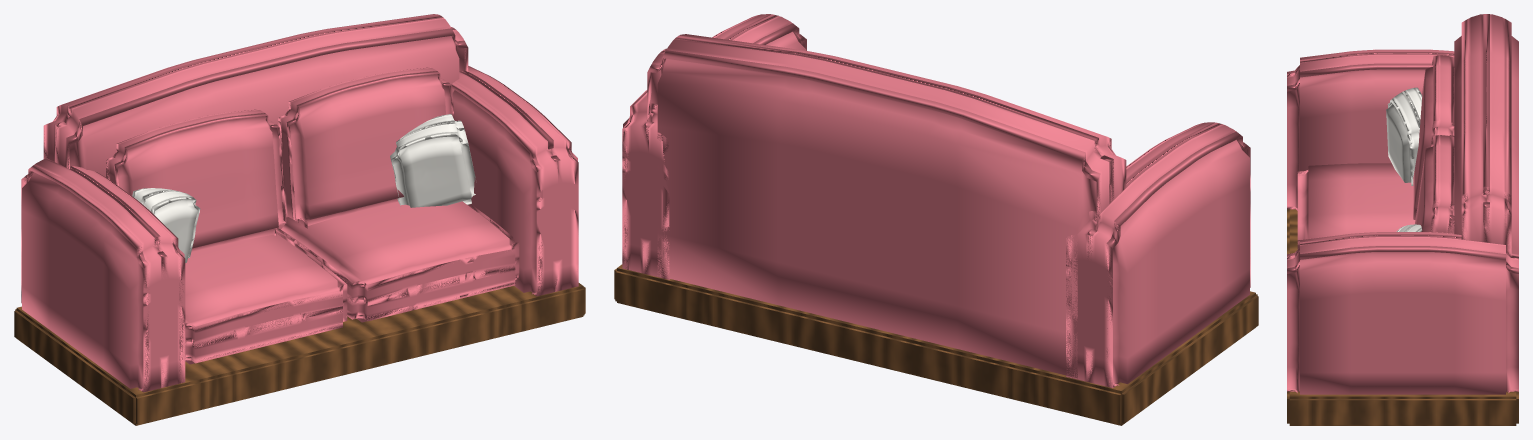
The model's file is furn_sofa.glb.
3 views of the same model, side by side, from view 1: azimuth 30°, elevation 25°; view 2: azimuth 150°, elevation 25°; view 3: azimuth 270°, elevation 25° (orthographic). The views are drawn at different scales.
Visible parts, largest first — view 1: furn_sofa; view 2: furn_sofa; view 3: furn_sofa.
Boxes of the visible parts, box(x1,y1,x2,y2) form: furn_sofa: box(14, 14, 585, 425); furn_sofa: box(614, 14, 1258, 425); furn_sofa: box(1287, 14, 1518, 425).
Size of the model in its own units: 1.84 by 0.9565 by 0.86.
3 materials, 1 textured.
